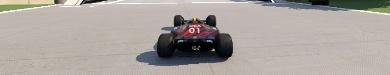Car: (156, 14, 233, 57)
curve: (0, 1, 389, 73)
